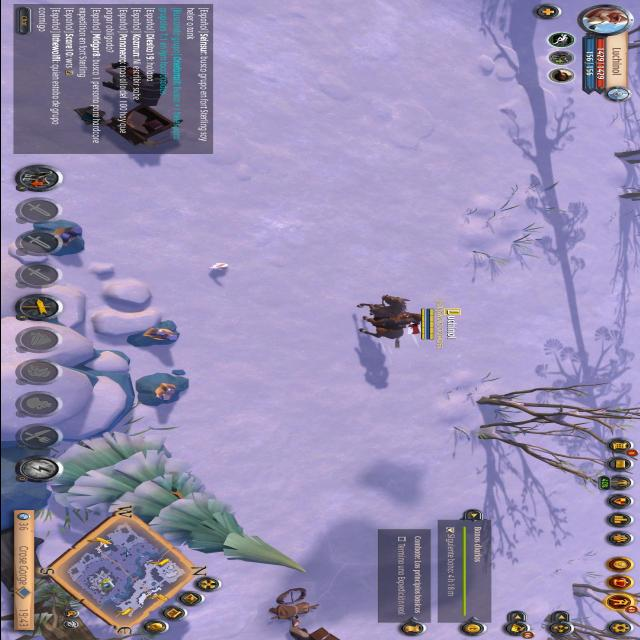piedra_cobre: (29, 220, 84, 256), (134, 372, 188, 406), (125, 320, 178, 348)
